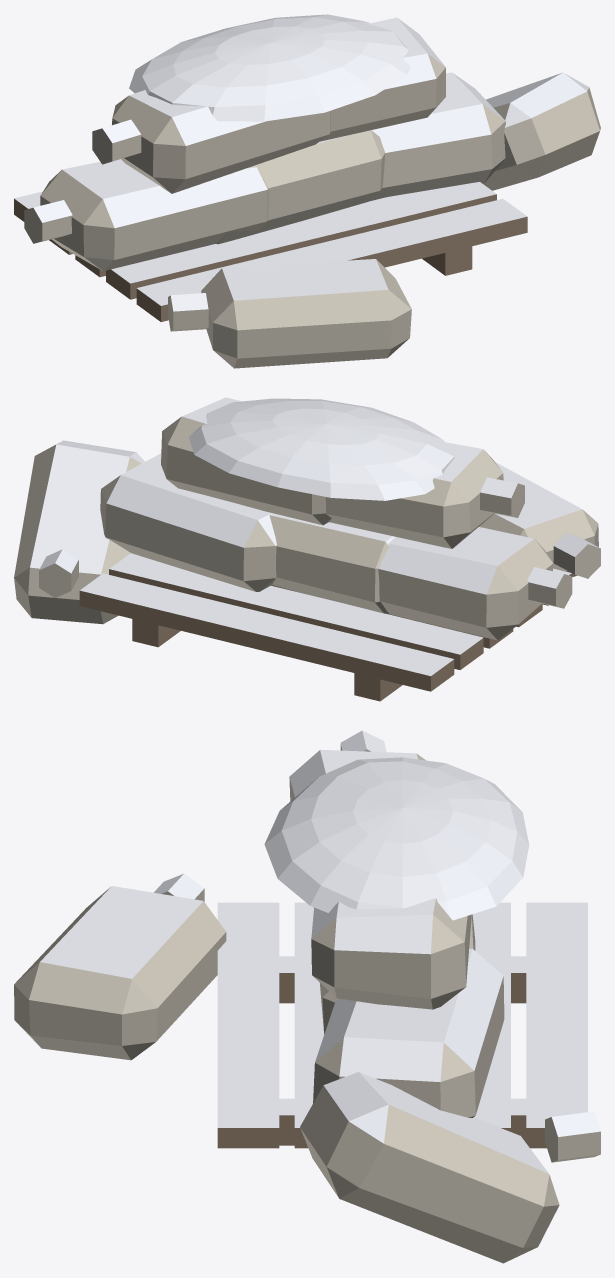
The model's file is PR_Sacos_Farinha.fbx.
3 views of the same model, one above another, from view 1: azimuth 30°, elevation 25°; view 2: azimuth 150°, elevation 25°; view 3: azimuth 270°, elevation 25° (orthographic). The views are drawn at different scales.
Parts seen in each view (by area): view 1: PR_Sacos_Farinha; view 2: PR_Sacos_Farinha; view 3: PR_Sacos_Farinha.
Part boxes in pixels (bbox=[...]): PR_Sacos_Farinha: bbox=[14, 14, 600, 368]; PR_Sacos_Farinha: bbox=[14, 397, 600, 701]; PR_Sacos_Farinha: bbox=[14, 730, 600, 1263].
Bounding box in the file's own units: 2.88 × 1.16 × 2.09.
